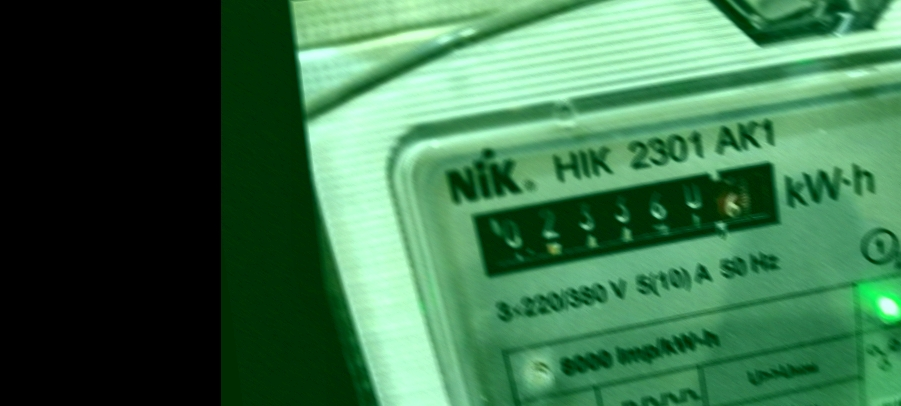0: (499, 214, 525, 251), (679, 178, 704, 212)
2: (537, 205, 561, 240)
3: (610, 189, 632, 224), (573, 200, 595, 233)
6: (720, 186, 745, 222), (645, 187, 669, 222)
screen: (453, 150, 800, 286)
